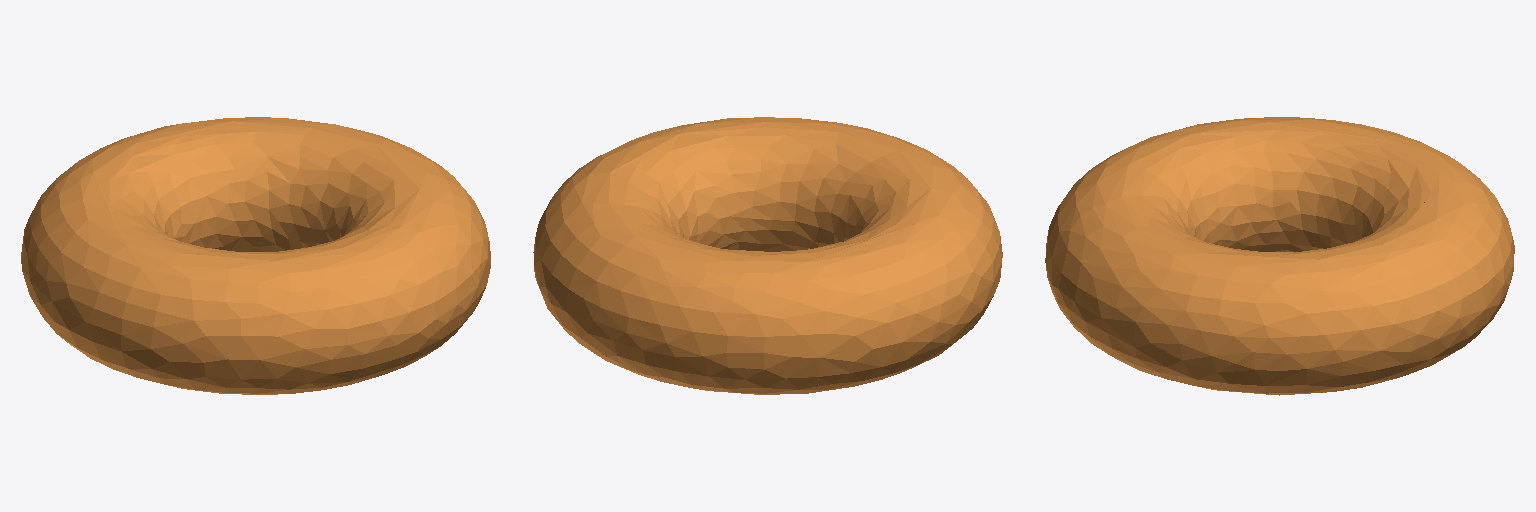
File: donut.obj
3 views of the same model, side by side, from view 1: azimuth 30°, elevation 25°; view 2: azimuth 150°, elevation 25°; view 3: azimuth 270°, elevation 25° (orthographic).
Parts seen in each view (by area): view 1: mesh01.002; view 2: mesh01.002; view 3: mesh01.002.
Boxes of the visible parts, <box> form: mesh01.002: <box>21,117,490,394</box>; mesh01.002: <box>533,117,1002,394</box>; mesh01.002: <box>1045,117,1514,395</box>.
Size of the model in its own units: 15.02 by 4.51 by 14.99.